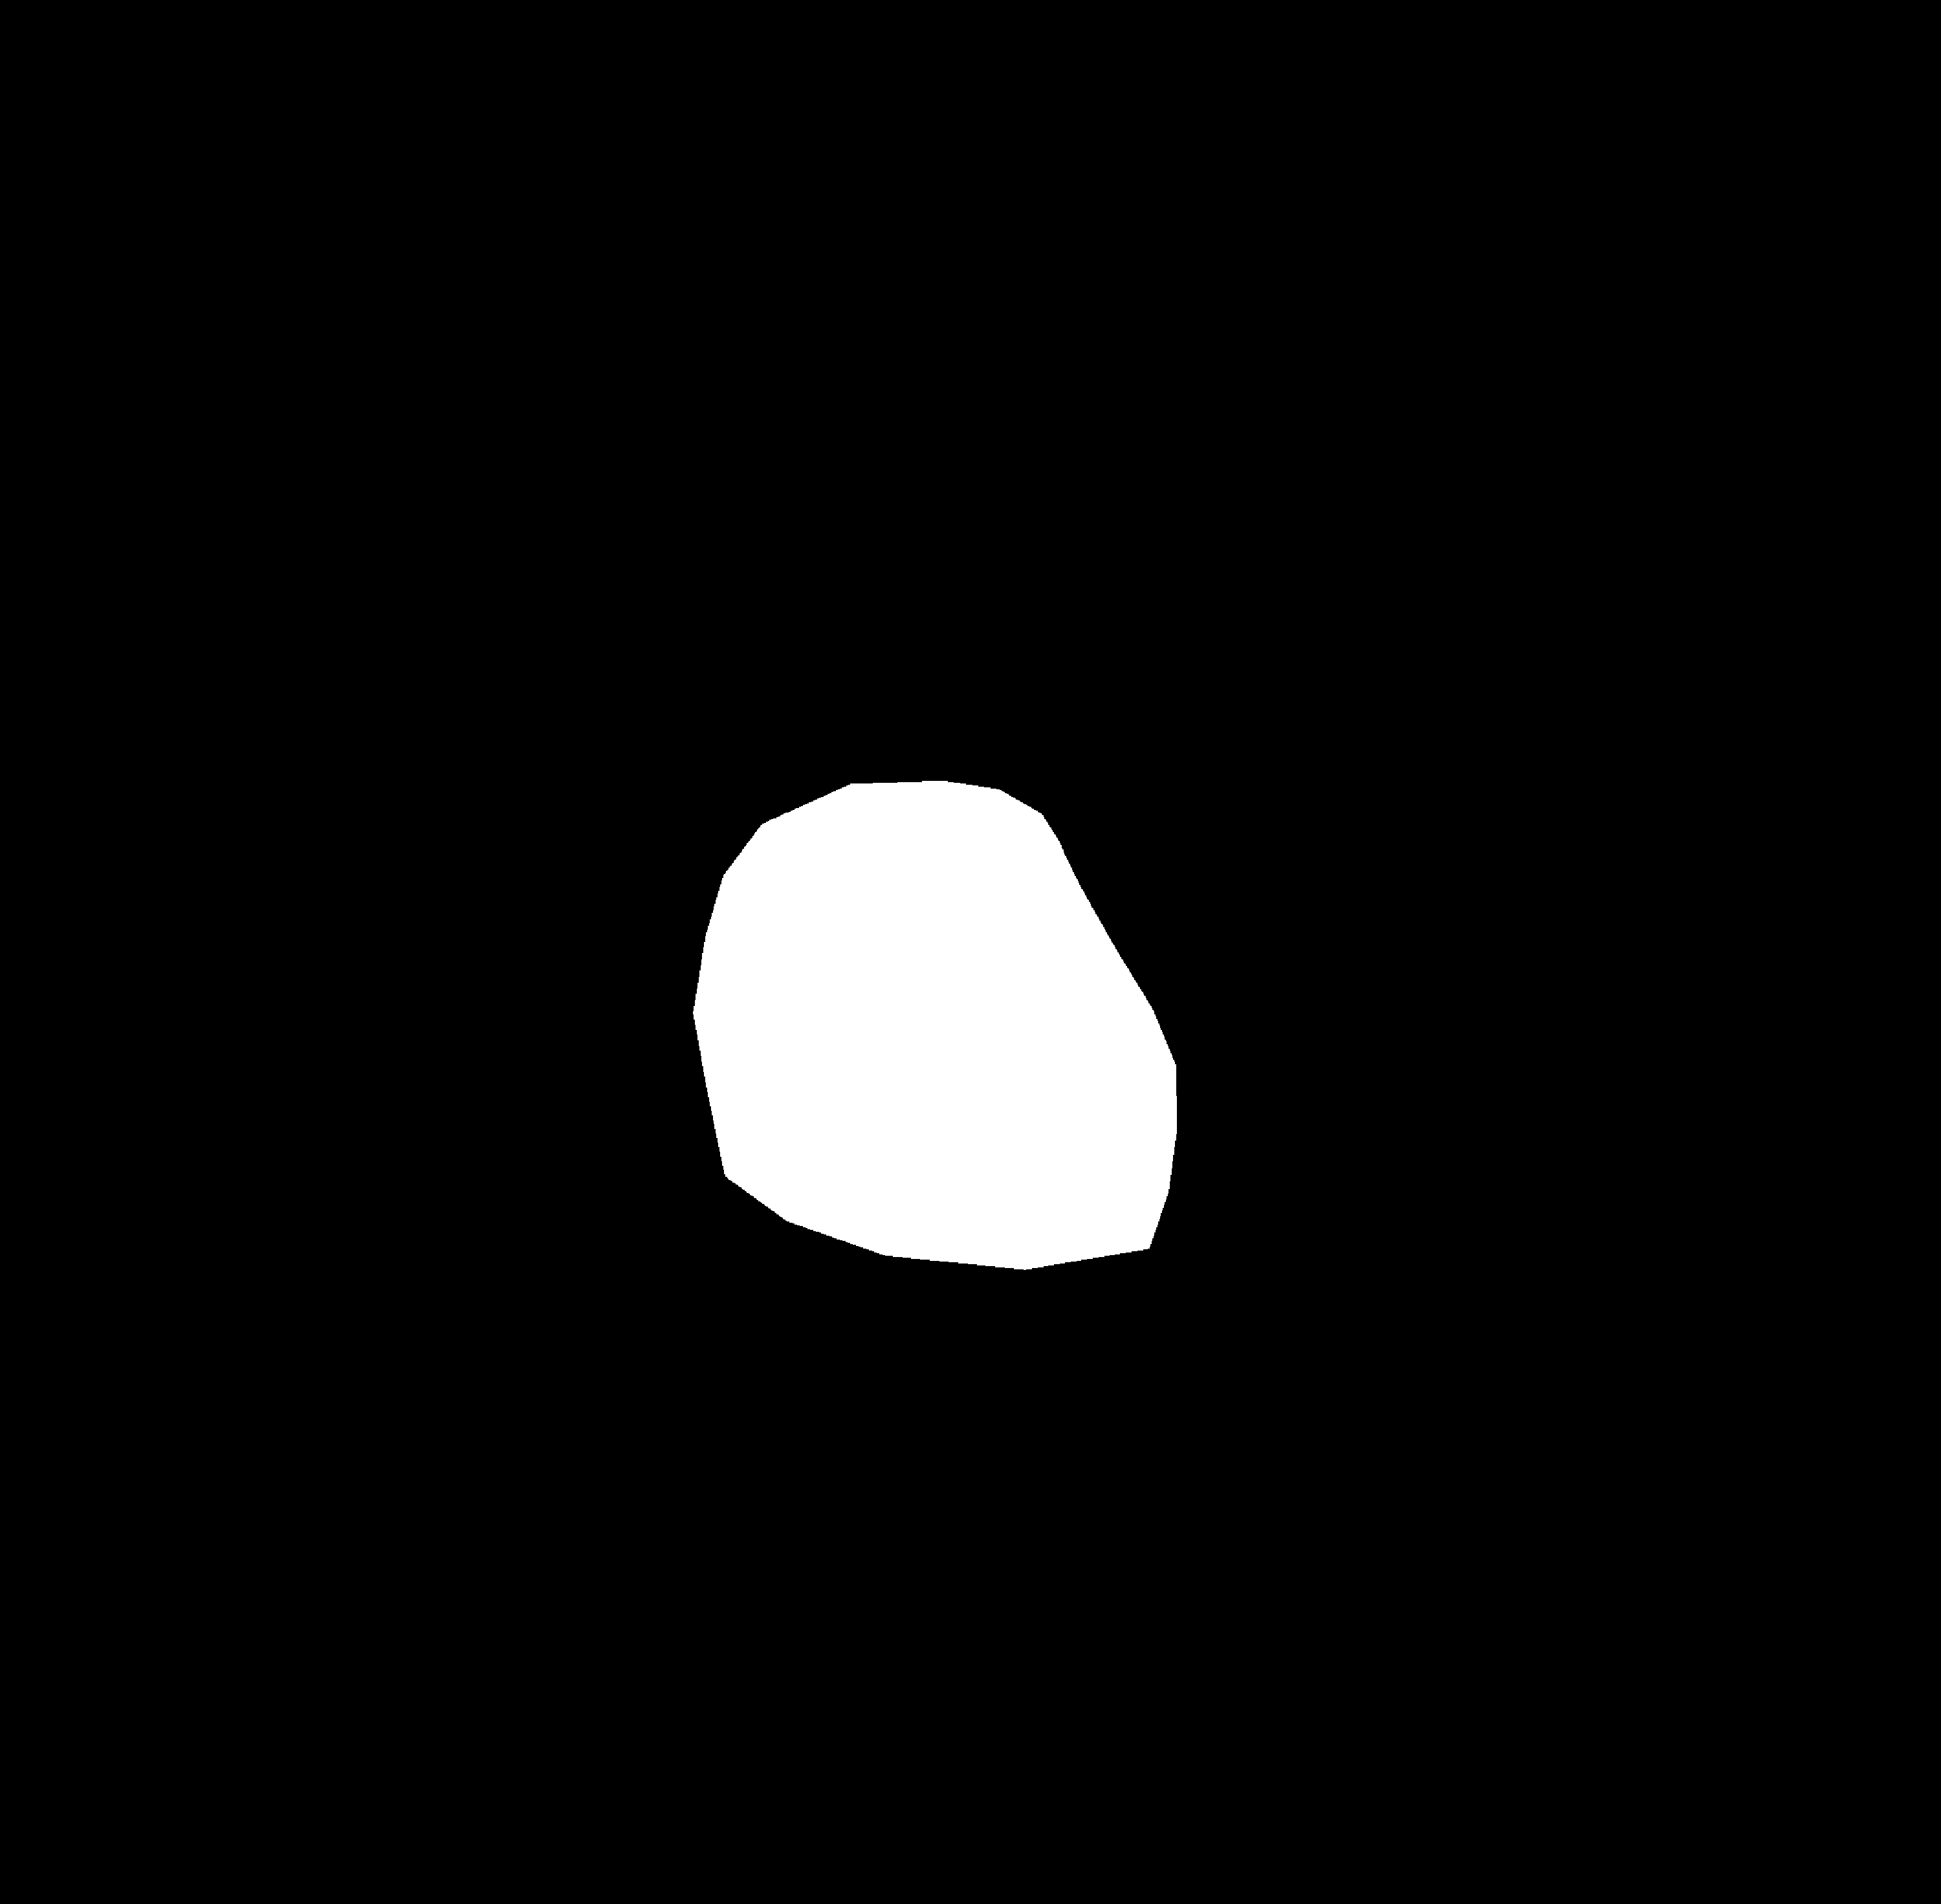heart: (698, 826, 1174, 1325)
left_lung: (255, 234, 778, 1496)
right_lung: (931, 197, 1414, 1390)
